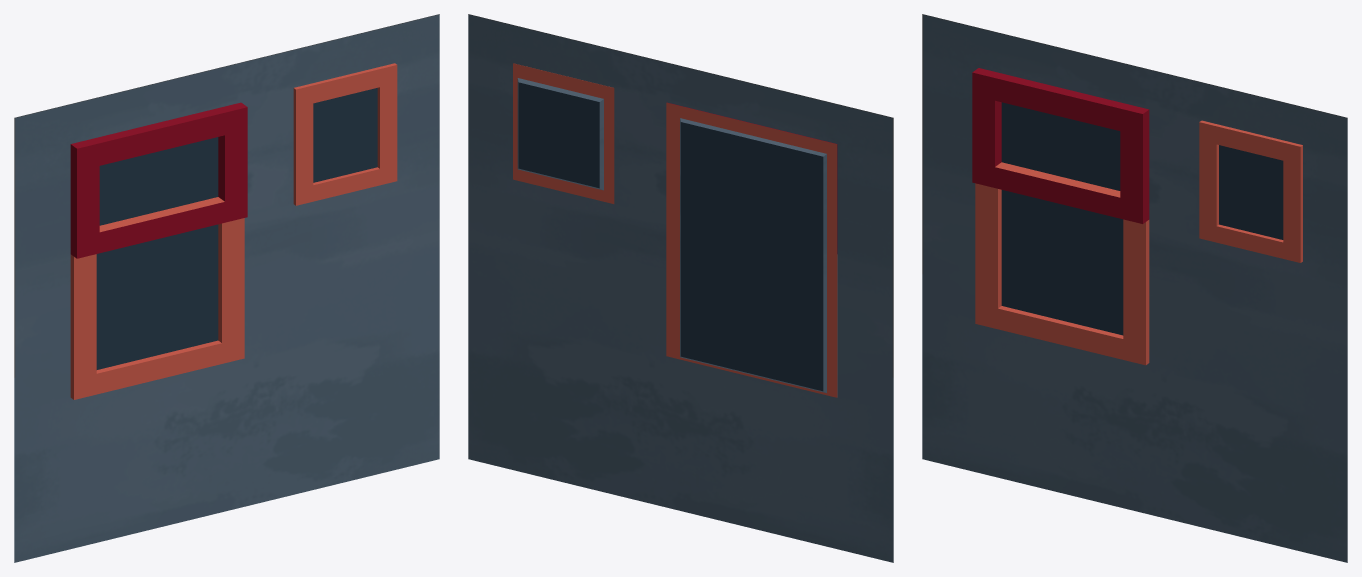
File: m_face_block_two_windows.FBX
3 views of the same model, side by side, from view 1: azimuth 30°, elevation 25°; view 2: azimuth 150°, elevation 25°; view 3: azimuth 330°, elevation 25° (orthographic).
Parts seen in each view (by area): view 1: face_block_two_windows; view 2: face_block_two_windows; view 3: face_block_two_windows.
Boxes of the visible parts, x1,y1,x2,y2 form: face_block_two_windows: (14, 14, 439, 562); face_block_two_windows: (468, 14, 893, 562); face_block_two_windows: (922, 14, 1347, 562).
Size of the model in its own units: 100 by 100 by 3.31.
